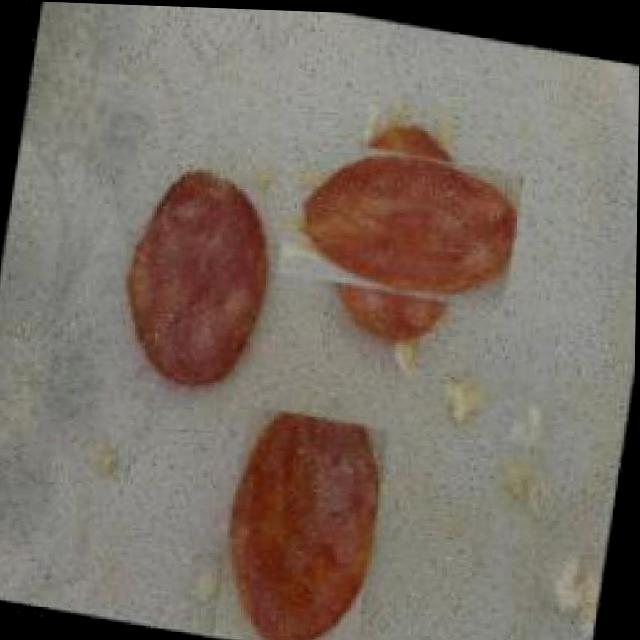chinese_sausage: (298, 114, 509, 328), (210, 398, 390, 640), (113, 156, 283, 391)
